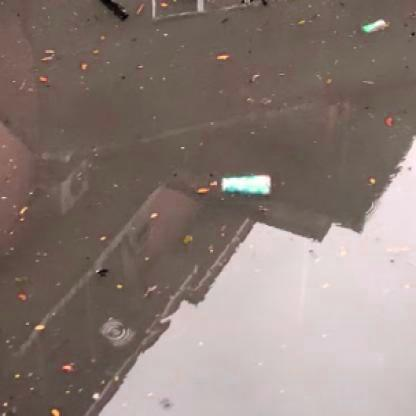Trash: (218, 174, 274, 197), (360, 14, 390, 38)
